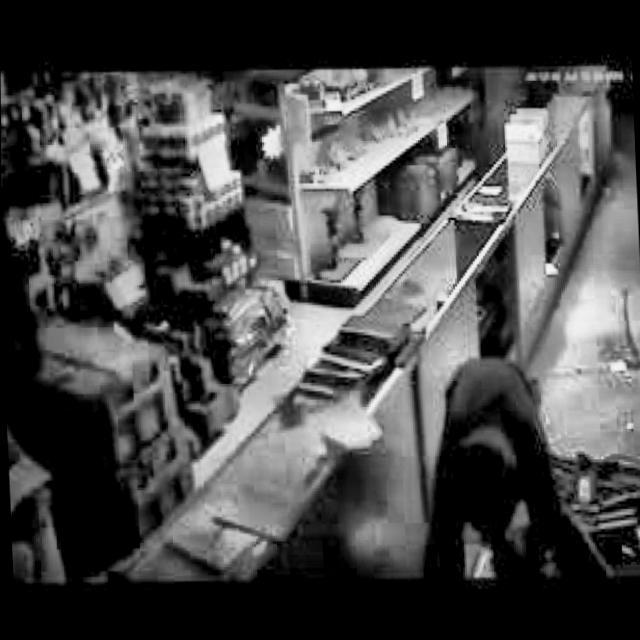Weapon: (422, 332, 578, 598)
